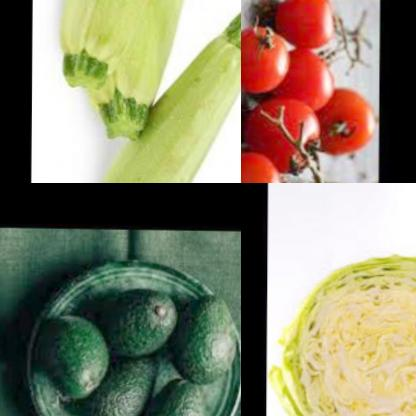avocado: (32, 307, 104, 416), (170, 293, 241, 388), (97, 280, 171, 369), (91, 357, 172, 416), (136, 364, 218, 416)
cabbage: (265, 238, 416, 416)
tomato: (241, 94, 325, 175), (314, 90, 380, 161), (281, 45, 342, 119), (241, 20, 291, 93), (283, 0, 340, 43), (241, 146, 289, 183)
vegetable marrow: (82, 0, 241, 183), (53, 0, 172, 105), (112, 0, 196, 148)
